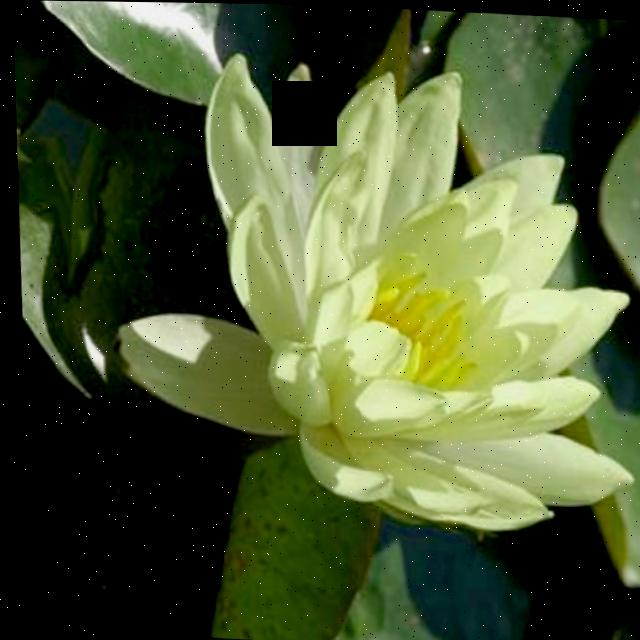water-lily: (137, 49, 640, 538)
